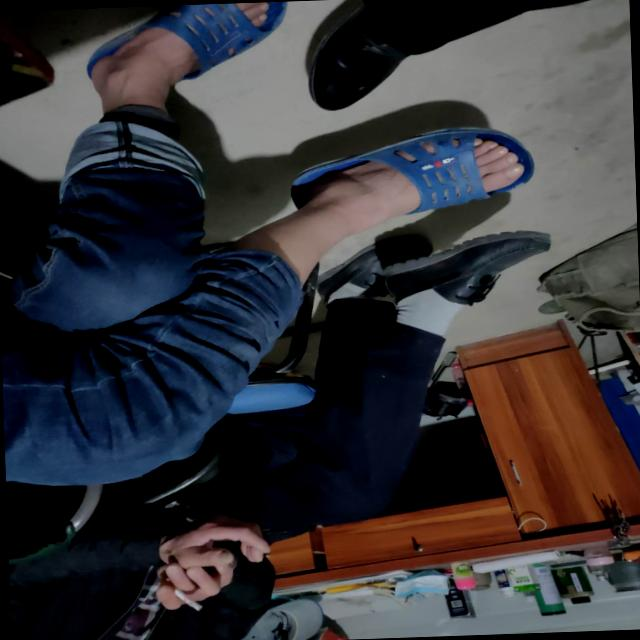cigarette: (152, 578, 216, 622)
